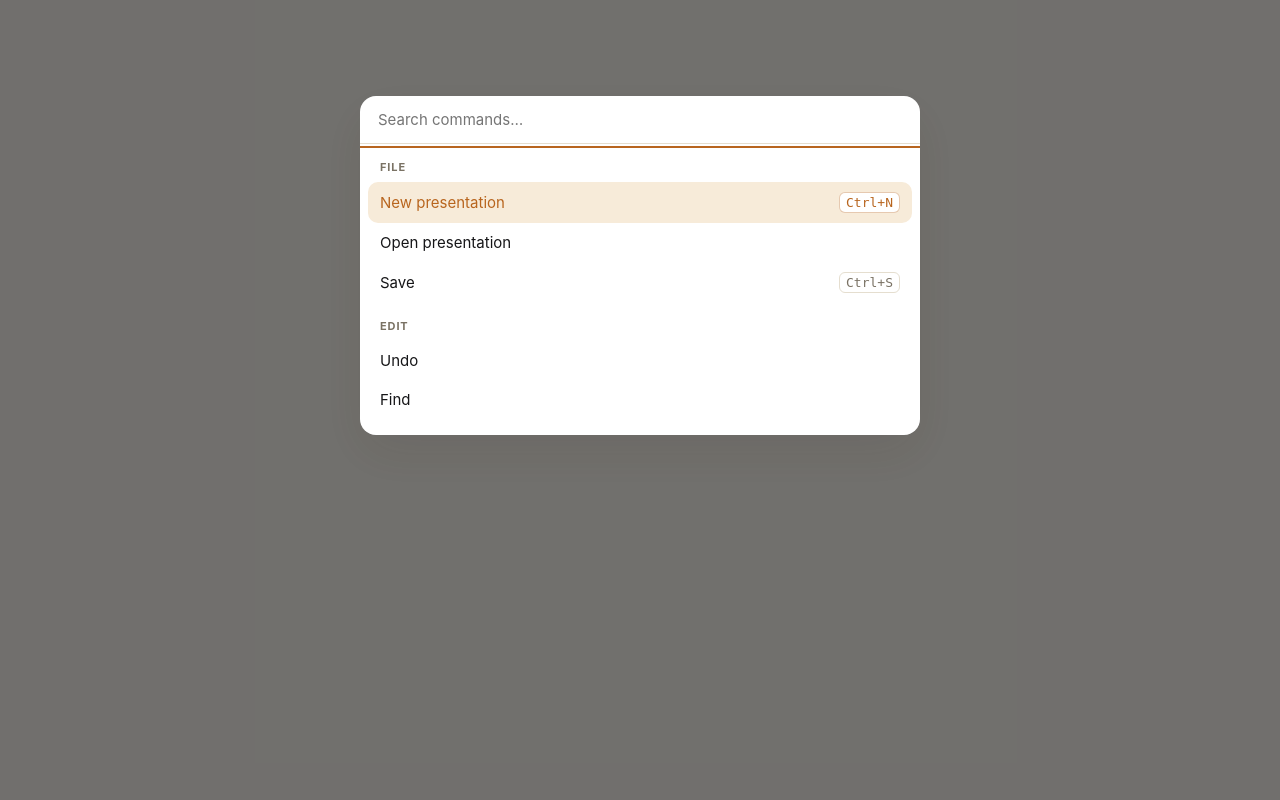
Scenario: CommandPalette › shows an empty state when the filter matches nothing
The width and height of the screenshot is (1280, 800).
Type "zzzzz" into the field with placeholder "Search commands…" at (640, 120), box [360,96,920,144]
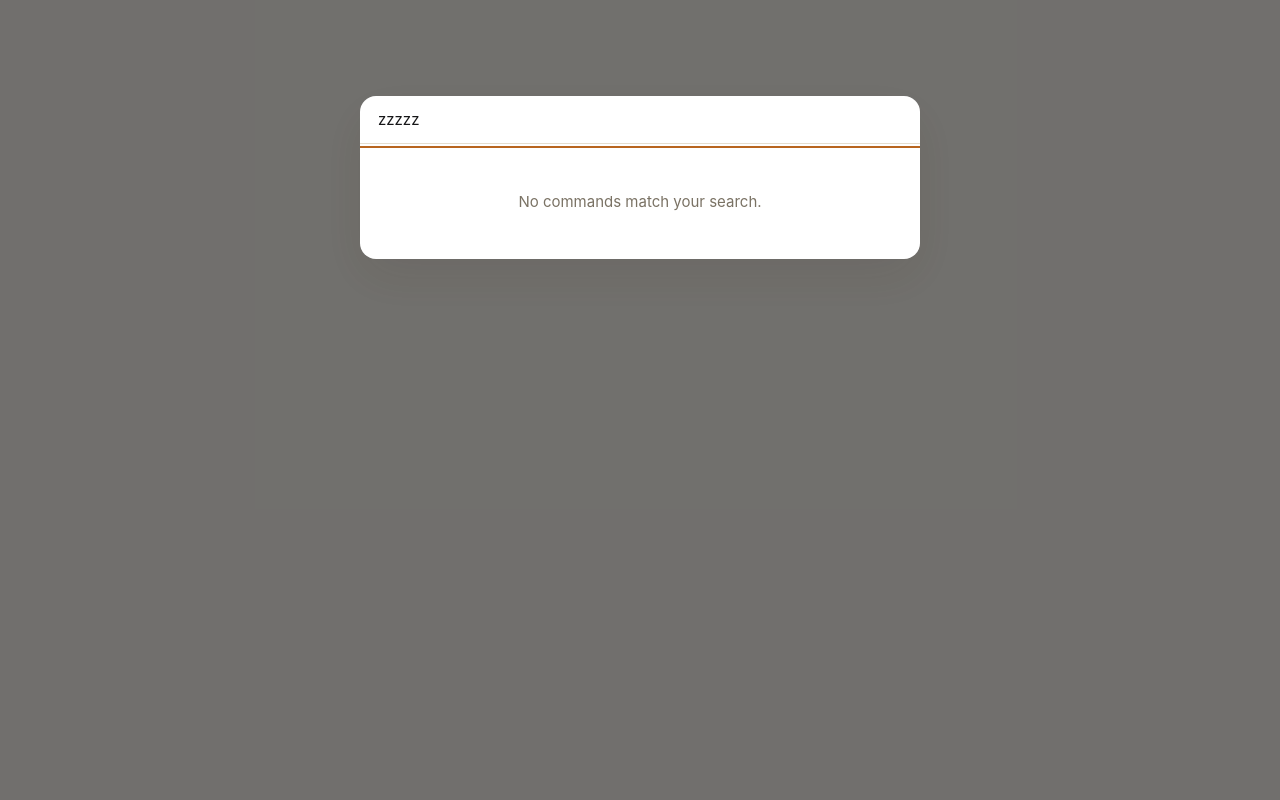
Result: the text "No commands match your search." is shown at [518,192,762,211]
Result: the option "New presentation" is gone
